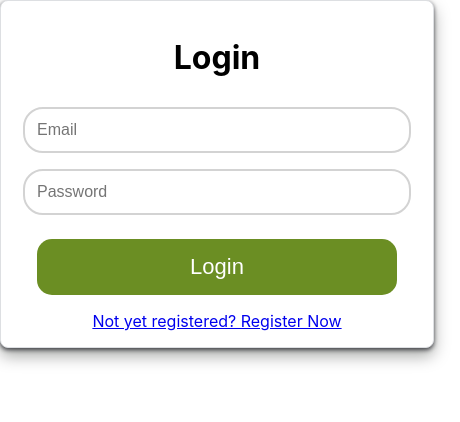
Test case: E2E - Login › Login show correspond error
Click the button "Login" at (217, 267), box [37, 239, 397, 295]
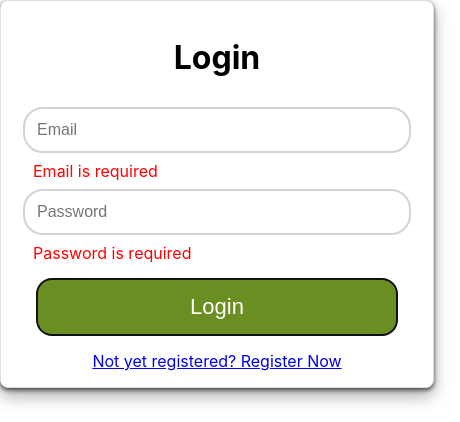
Result: the text "Email is required" is shown at [33, 161, 158, 181]
Result: the text "Password is required" is shown at [33, 243, 192, 263]
